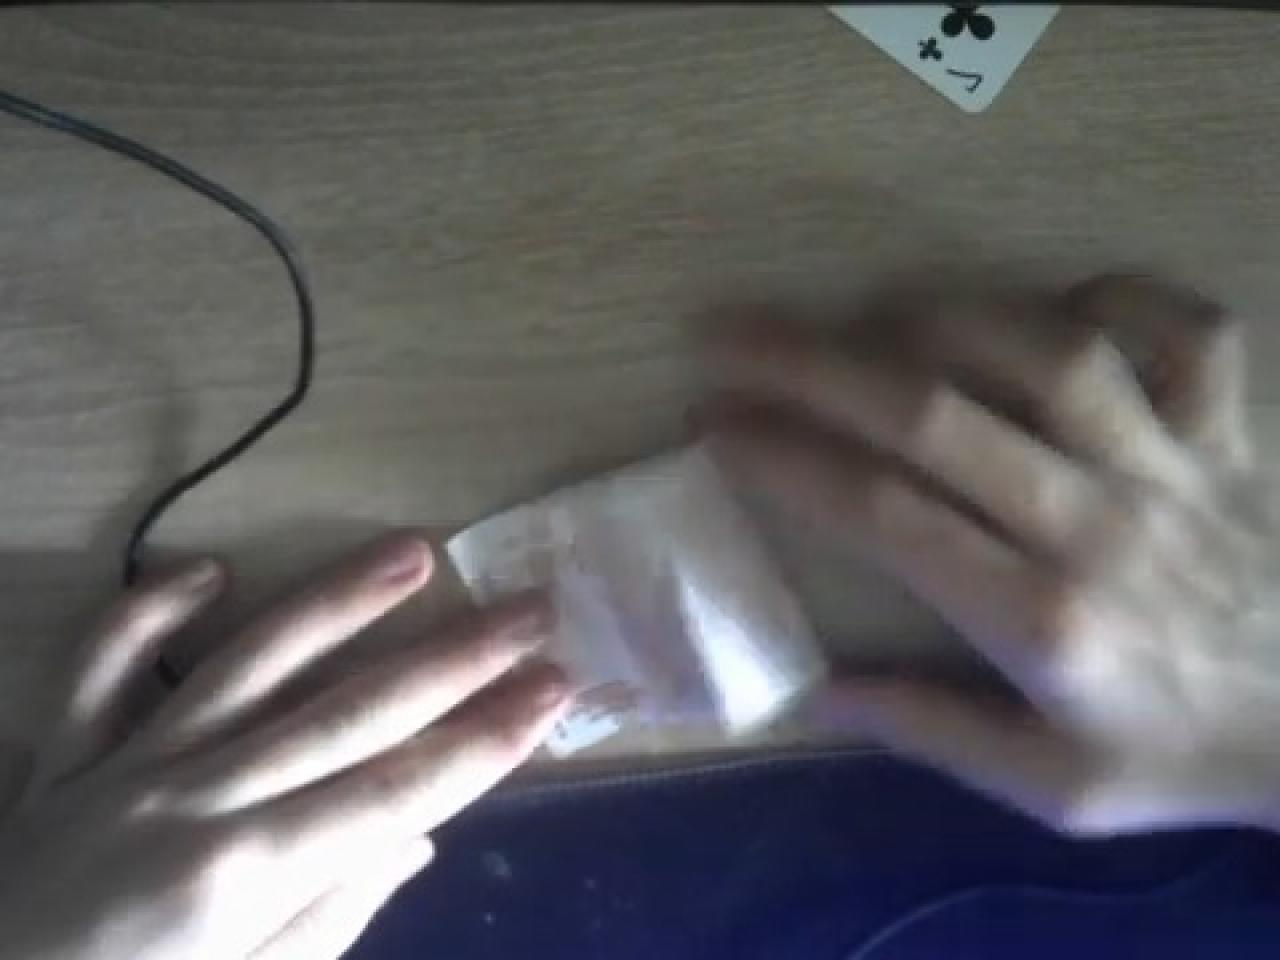5leva: (442, 438, 829, 752)
